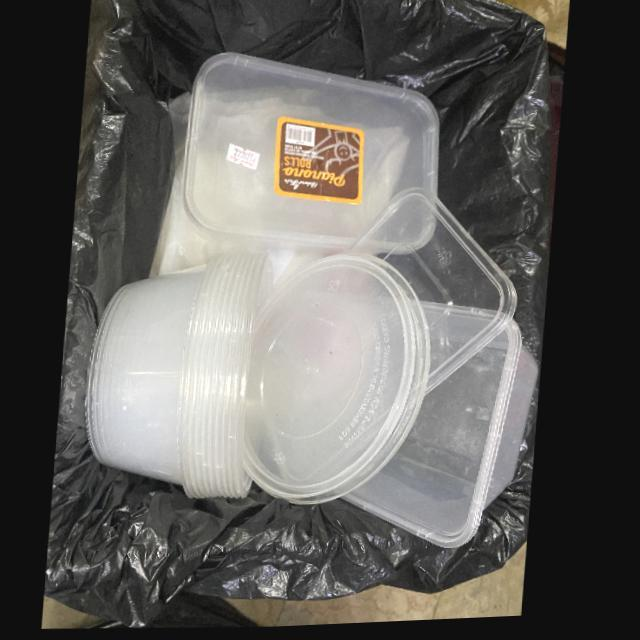plastic: (183, 55, 440, 261), (347, 307, 542, 555), (245, 260, 436, 508), (88, 256, 278, 503), (349, 191, 520, 398)
